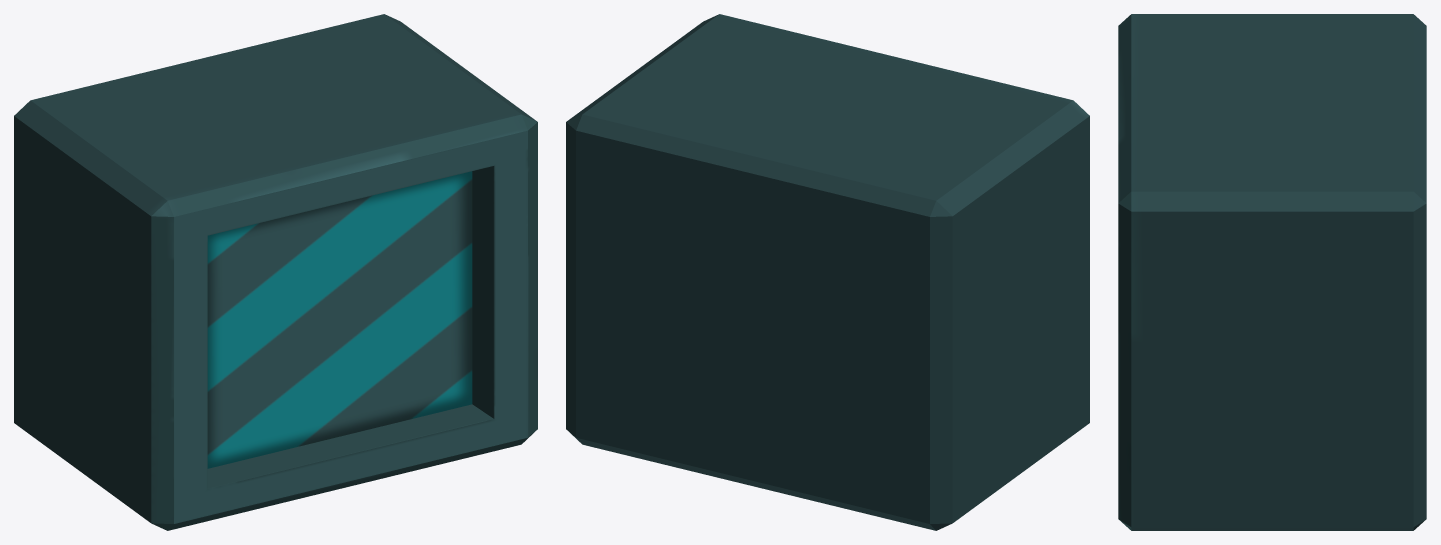
The model's file is 61_ELM_BlueTriggerSquareGlass.fbx.
3 views of the same model, side by side, from view 1: azimuth 30°, elevation 25°; view 2: azimuth 150°, elevation 25°; view 3: azimuth 270°, elevation 25° (orthographic). The views are drawn at different scales.
Visible parts, largest first — view 1: Blue_trigger_SquareGlass; view 2: Blue_trigger_SquareGlass; view 3: Blue_trigger_SquareGlass.
Part boxes in pixels (bbox=[...]): Blue_trigger_SquareGlass: bbox=[14, 14, 537, 530]; Blue_trigger_SquareGlass: bbox=[566, 14, 1089, 530]; Blue_trigger_SquareGlass: bbox=[1118, 14, 1426, 530].
Bounding box in the file's own units: 2.11 × 1.72 × 1.42.
1 material, 1 textured.
